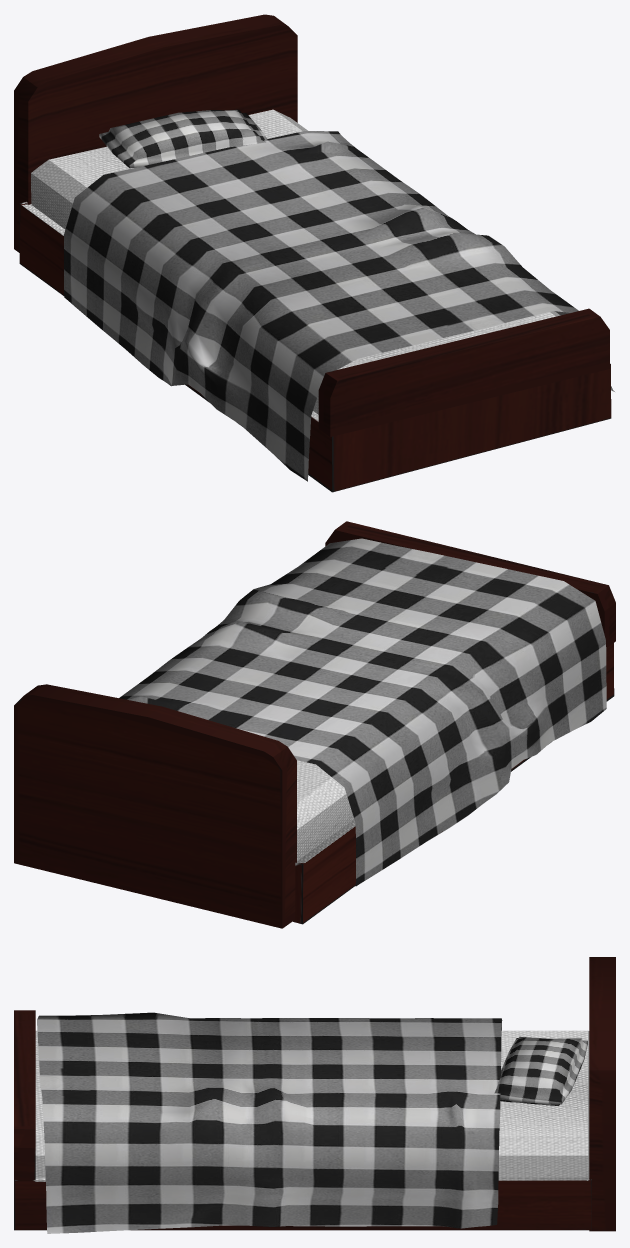
Rendered from OneRoom_Bed.fbx.
3 views of the same model, one above another, from view 1: azimuth 30°, elevation 25°; view 2: azimuth 150°, elevation 25°; view 3: azimuth 270°, elevation 25° (orthographic). The views are drawn at different scales.
Parts seen in each view (by area): view 1: Box002; view 2: Box002; view 3: Box002.
Boxes of the visible parts, x1,y1,x2,y2 form: Box002: (14, 14, 614, 492); Box002: (14, 521, 615, 928); Box002: (14, 957, 615, 1233).
Size of the model in its own units: 1.17 by 0.6222 by 2.01.
Materials: 1 (1 with a texture image).
